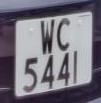1: (71, 51, 81, 87)
4: (40, 53, 57, 93), (56, 50, 73, 90)
5: (20, 54, 42, 96)
C: (55, 14, 73, 58)
W: (38, 18, 56, 59)
